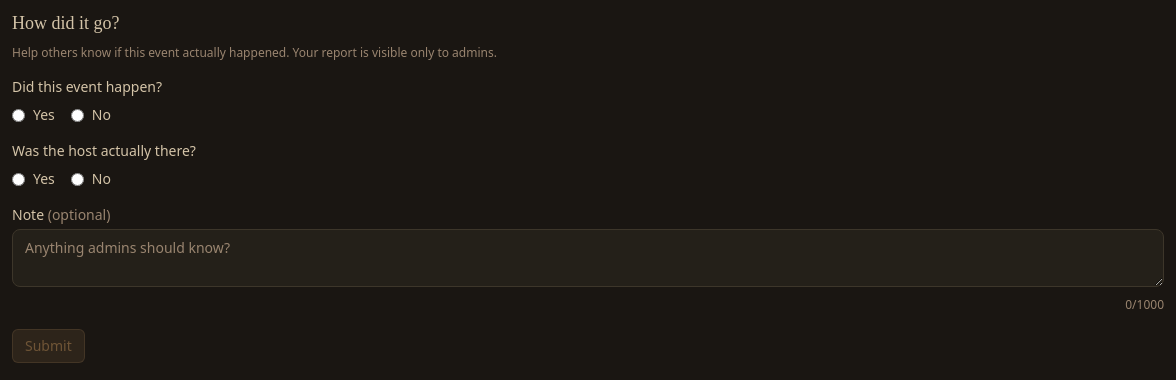
it: <AttendanceReportSection> › POSTs the answers and shows confirmation (R4)
expect the button "Submit" is shown: met, box [12, 329, 85, 363]
Step 1. Click the radio button labelled "Yes" below "Did this event happen?" → (18, 115), box [12, 108, 25, 122]
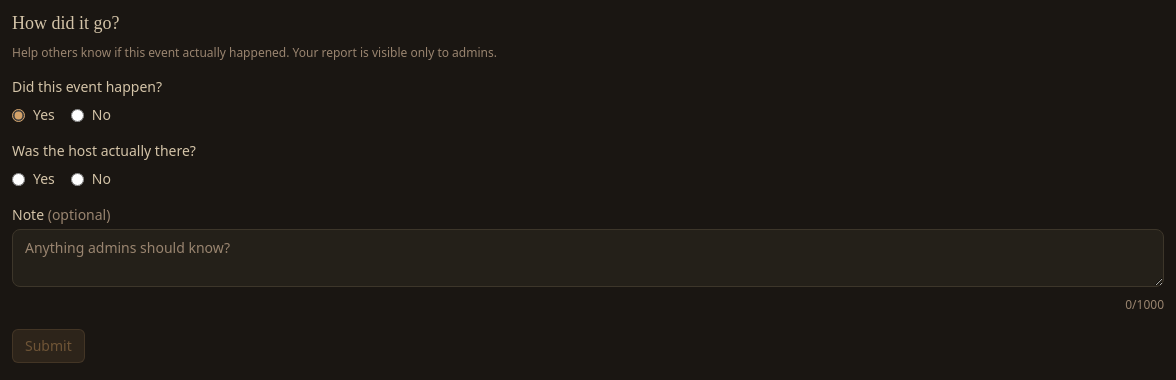
Step 2. Click the radio button labelled "No" below "Was the host actually there?" → (77, 179), box [71, 172, 84, 186]
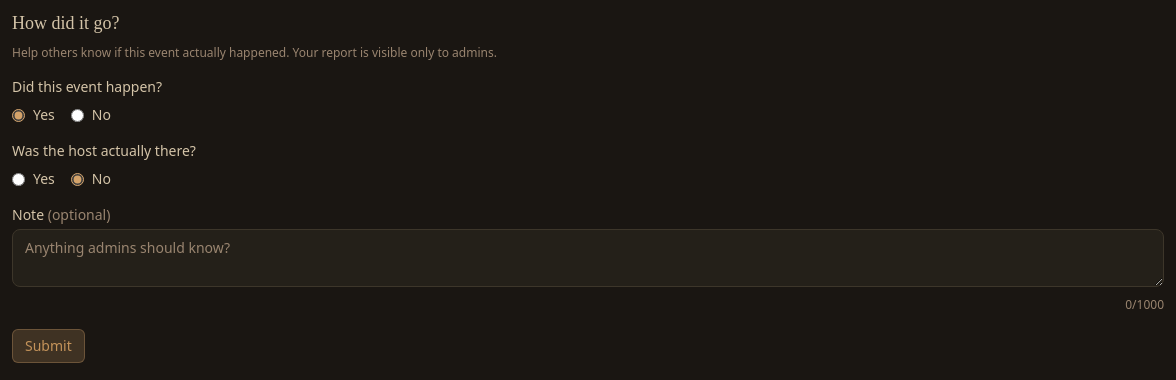
Step 3. Click the button "Submit" → (48, 346), box [12, 329, 85, 363]
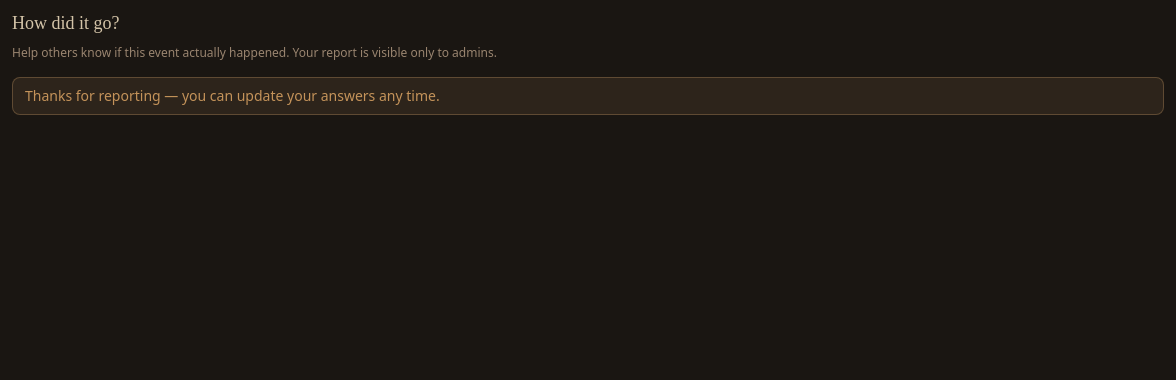
expect the text "Thanks for reporting — you can update your answers any time." is shown: met, box [12, 77, 1164, 115]
